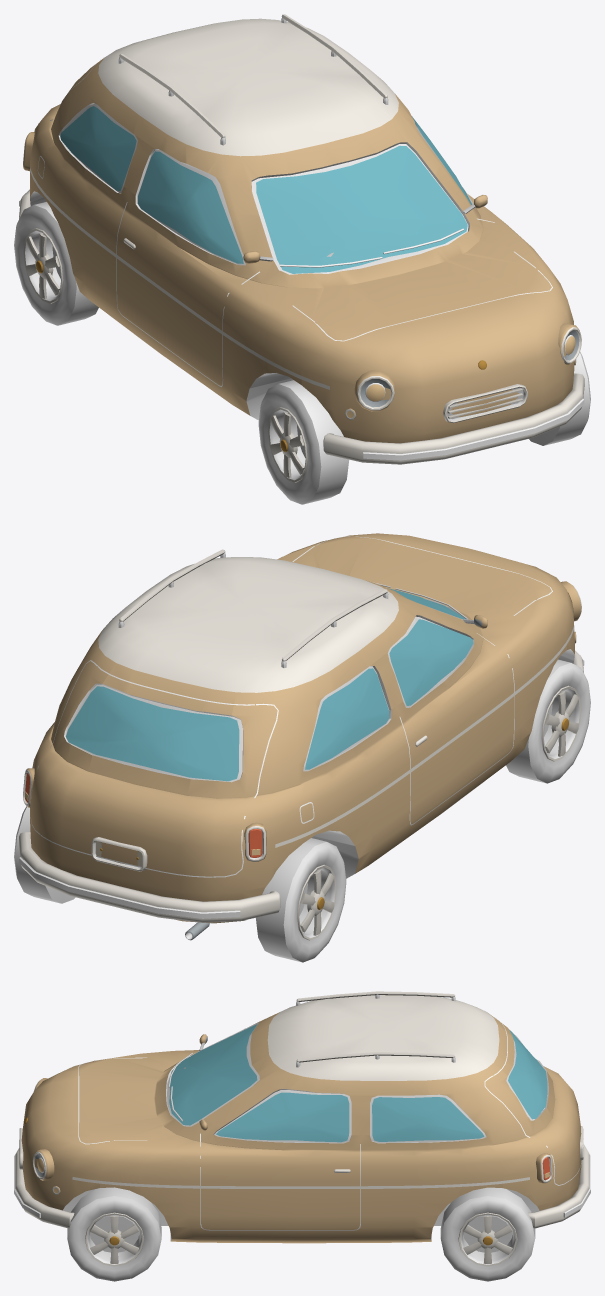
File: city_car_a.fbx
The picture shows the model from 3 angles, top to bottom: view 1: azimuth 30°, elevation 25°; view 2: azimuth 150°, elevation 25°; view 3: azimuth 270°, elevation 25°; orthographic projection. The views are drawn at different scales.
Visible parts, largest first — view 1: Body, Wheel_FR, Wheel_RR, Wheel_FL; view 2: Body, Wheel_RR, Wheel_FR, Wheel_RL; view 3: Body, Wheel_RL, Wheel_FL.
Boxes of the visible parts, <box> form: Body: <box>19,14,584,464</box>; Wheel_FR: <box>258,380,349,504</box>; Wheel_RR: <box>14,202,98,325</box>; Wheel_FL: <box>529,351,590,445</box>; Body: <box>19,533,584,940</box>; Wheel_RR: <box>256,838,346,962</box>; Wheel_FR: <box>506,659,590,783</box>; Wheel_RL: <box>14,806,75,903</box>; Body: <box>14,991,590,1243</box>; Wheel_RL: <box>440,1187,535,1281</box>; Wheel_FL: <box>67,1187,161,1281</box>.
Bounding box in the file's own units: 1.7 × 1.52 × 3.79.
